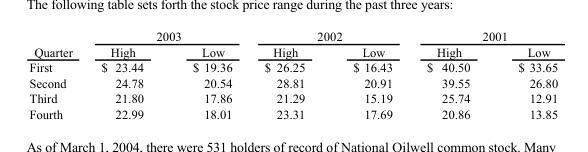table: (28, 28, 557, 120)
table column: (408, 28, 493, 120), (86, 28, 167, 120), (247, 28, 328, 120), (167, 28, 247, 120), (328, 28, 408, 120), (493, 28, 557, 120), (28, 28, 86, 120)
table column header: (28, 28, 557, 59)
table row: (28, 43, 557, 59), (28, 74, 557, 90), (28, 28, 557, 43), (28, 59, 557, 74), (28, 90, 557, 105), (28, 105, 557, 120)
table spanning cell: (86, 28, 247, 43), (247, 28, 408, 43), (408, 28, 557, 43), (28, 28, 86, 59)
